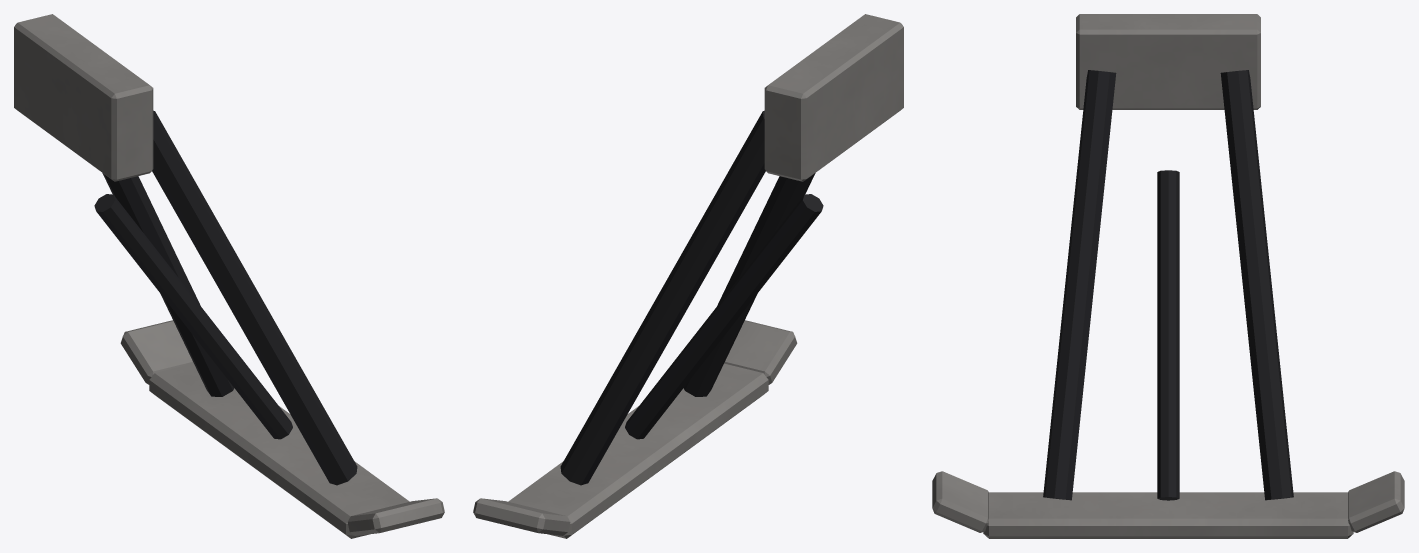
File: ax_gear_06_skid_strut_s.glb
3 renders of one model, left to right at view 1: azimuth 30°, elevation 25°; view 2: azimuth 150°, elevation 25°; view 3: azimuth 270°, elevation 25°, orthographic. The views are drawn at different scales.
Parts seen in each view (by area): view 1: skid_struts, skid, mount_block; view 2: skid_struts, skid, mount_block; view 3: skid_struts, skid, mount_block.
Boxes of the visible parts, x1,y1,x2,y2 form: skid_struts: [94, 110, 357, 485]; skid: [120, 320, 444, 538]; mount_block: [14, 14, 153, 181]; skid_struts: [560, 110, 823, 485]; skid: [473, 320, 797, 538]; mount_block: [764, 14, 903, 181]; skid_struts: [1043, 70, 1293, 500]; skid: [932, 471, 1404, 538]; mount_block: [1076, 14, 1260, 109].
Size of the model in its own units: 0.7271 by 1.25 by 1.28.
2 materials, 1 textured.
